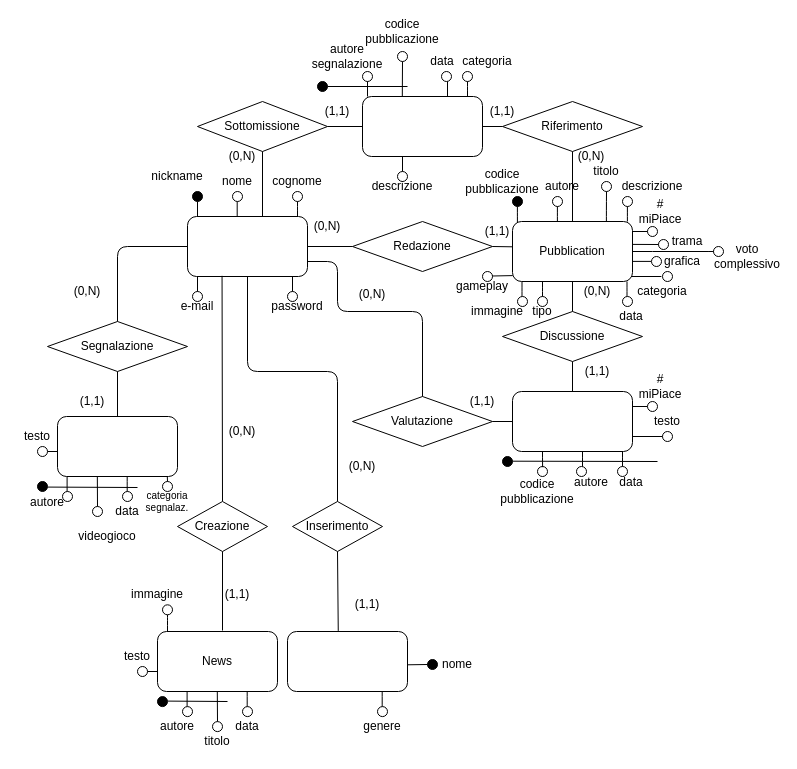
The diagram is 797 pixels wide and 769 high, and some of its shapes have lost their labels. Here are the shapes that lost their labels. From the top down, the centre of each, then its label:
(x=422, y=126): PubblicationReport
(x=247, y=246): User
(x=572, y=421): Comment
(x=117, y=446): Bug
(x=347, y=661): VideoGame/Category
